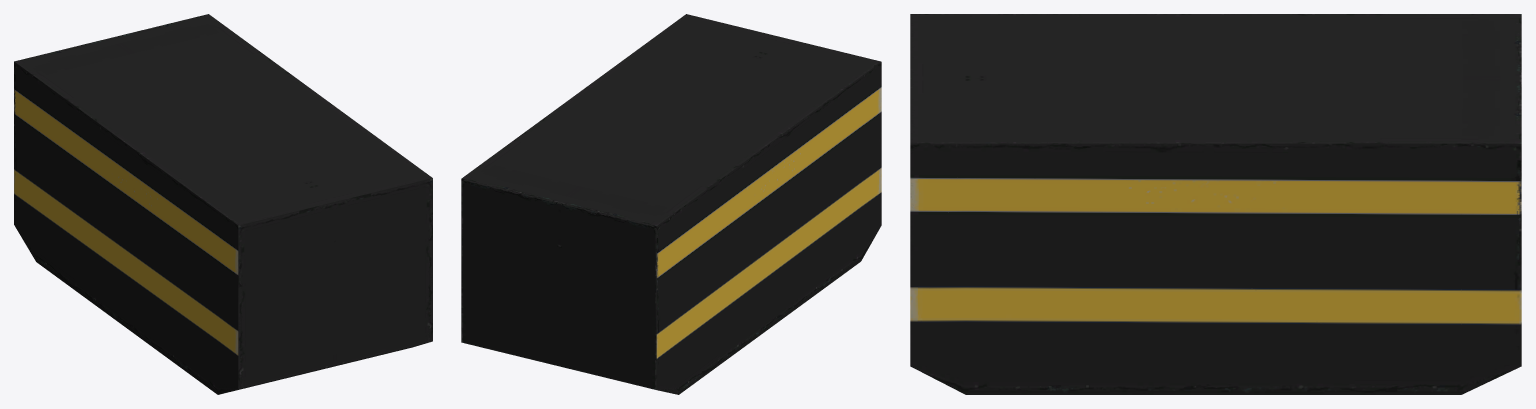
Rendered from arch01_middlePiece.dae.
3 views of the same model, side by side, from view 1: azimuth 30°, elevation 25°; view 2: azimuth 150°, elevation 25°; view 3: azimuth 270°, elevation 25° (orthographic). The views are drawn at different scales.
Visible parts, largest first — view 1: polySurface13; view 2: polySurface13; view 3: polySurface13.
Part boxes in pixels (box(x1,y1,x2,y2)): polySurface13: box(14, 14, 432, 394); polySurface13: box(461, 14, 881, 394); polySurface13: box(910, 14, 1521, 394).
Size of the model in its own units: 1 by 0.9055 by 2.
Materials: 1 (1 with a texture image).
